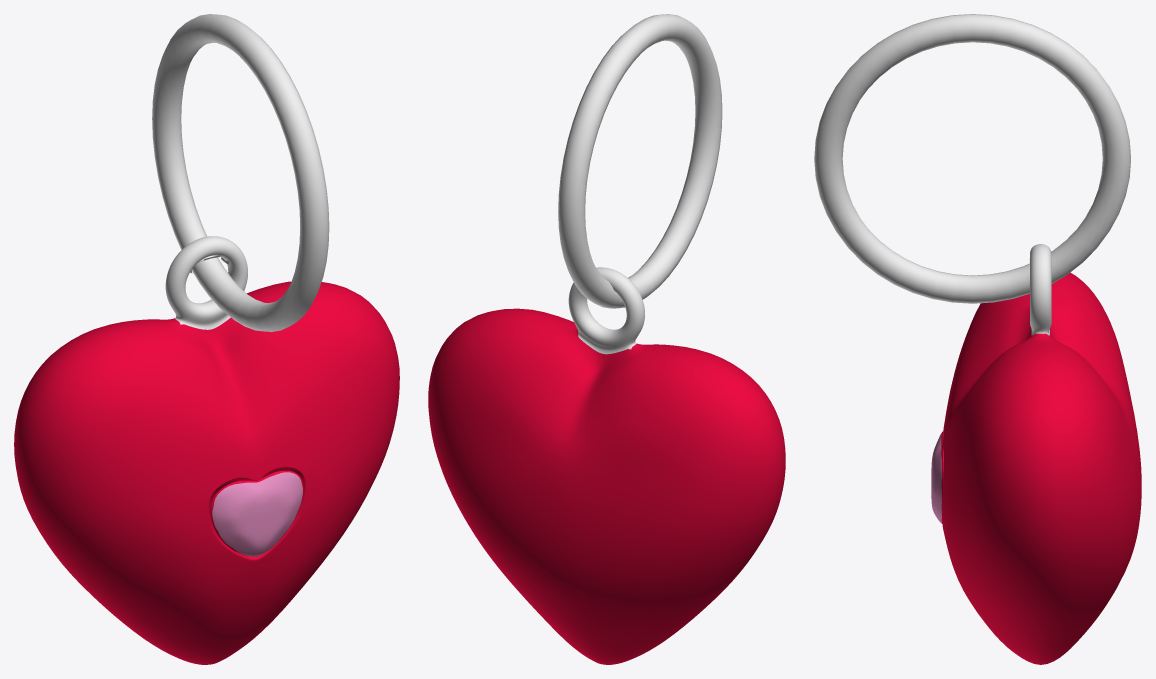
Rendered from CHARMS7.glb.
3 renders of one model, left to right at view 1: azimuth 30°, elevation 25°; view 2: azimuth 150°, elevation 25°; view 3: azimuth 270°, elevation 25°, orthographic. The views are drawn at different scales.
Visible parts, largest first — view 1: charm2; view 2: charm2; view 3: charm2.
Part boxes in pixels (left/top/right/bottom): charm2: left=14, top=14, right=399, bottom=664; charm2: left=428, top=14, right=785, bottom=664; charm2: left=814, top=14, right=1141, bottom=664.
Size of the model in its own units: 2.06 by 3.51 by 1.61.
